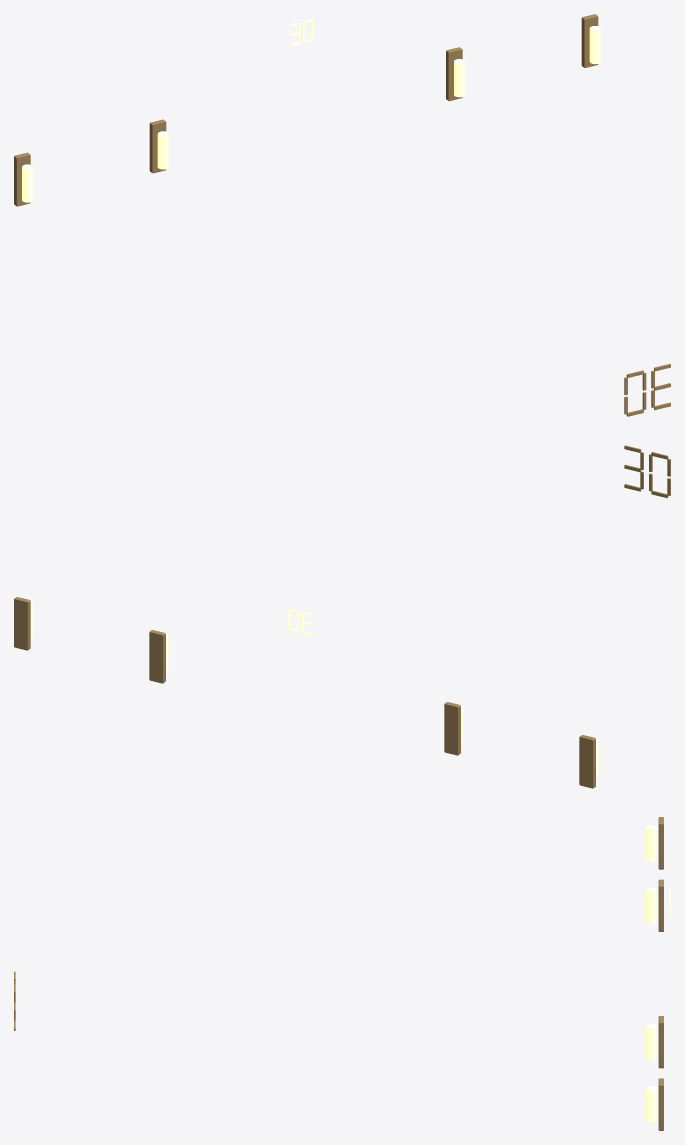
Rendered from fixtures.glb.
3 views of the same model, one above another, from view 1: azimuth 30°, elevation 25°; view 2: azimuth 150°, elevation 25°; view 3: azimuth 270°, elevation 25° (orthographic). The views are drawn at different scales.
Parts seen in each view (by area): view 1: back--1-2.4; view 2: back--1-2.4, back-1-2.4, back-1-4.6, back--1-4.6; view 3: no part large enough to name.
Part boxes in pixels (bbox=[...]): back--1-2.4: bbox=[149, 119, 166, 173]; back--1-2.4: bbox=[444, 702, 460, 755]; back-1-2.4: bbox=[149, 630, 165, 683]; back-1-4.6: bbox=[14, 597, 30, 650]; back--1-4.6: bbox=[579, 735, 595, 788].
Size of the model in its own units: 9.43 by 2.09 by 9.77.
